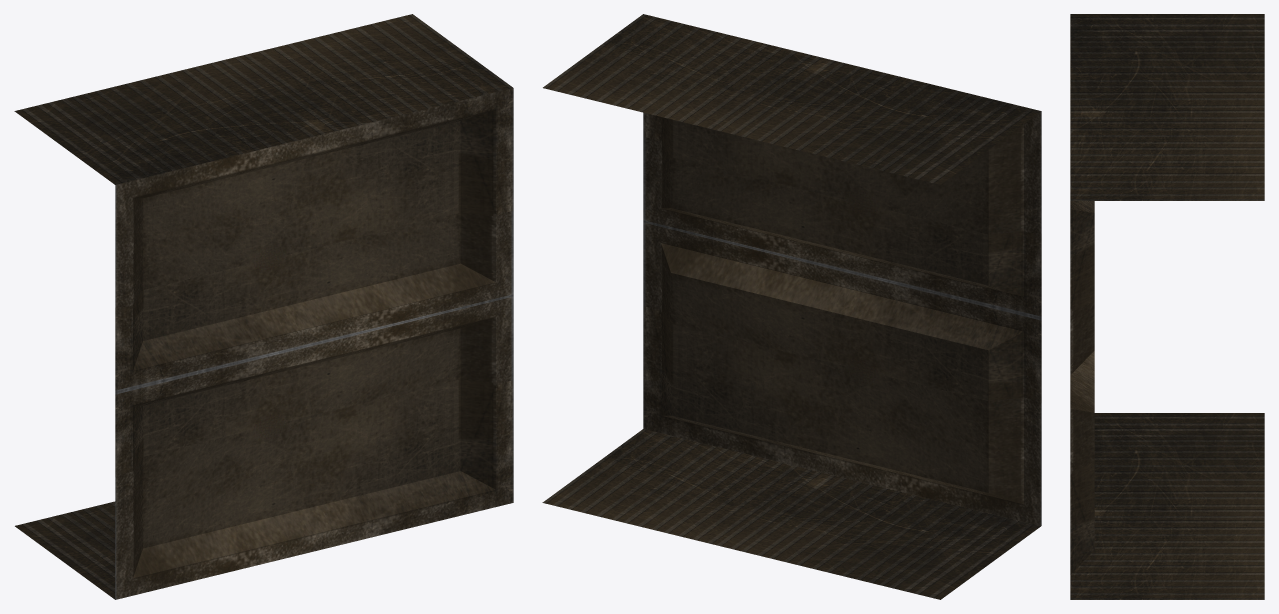
Rendered from floorDouble2.fbx.
3 renders of one model, left to right at view 1: azimuth 30°, elevation 25°; view 2: azimuth 150°, elevation 25°; view 3: azimuth 270°, elevation 25°, orthographic. The views are drawn at different scales.
Visible parts, largest first — view 1: pCube30; view 2: pCube30; view 3: pCube30.
Part boxes in pixels (<box>): pCube30: <box>14,14,513,599</box>; pCube30: <box>542,14,1041,599</box>; pCube30: <box>1070,14,1264,599</box>.
Size of the model in its own units: 16 by 15.92 by 7.03.
